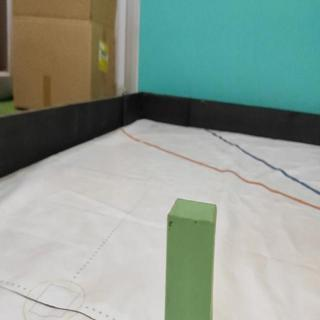greenbox: (165, 194, 218, 320)
